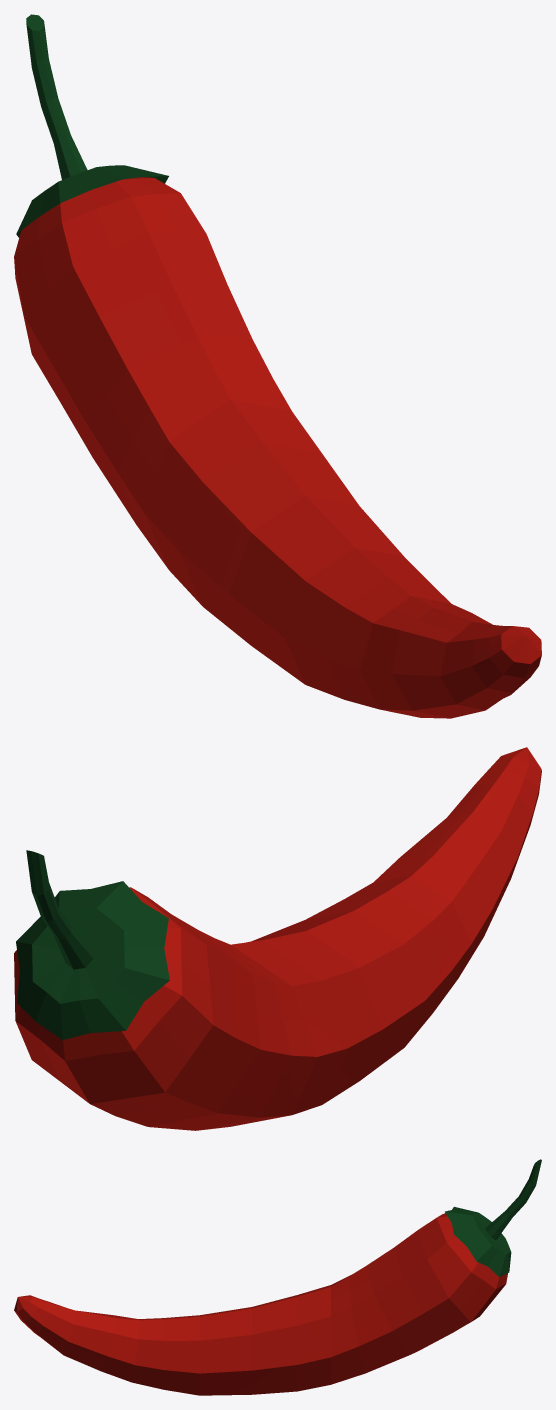
Rendered from pimenta1.glb.
3 views of the same model, one above another, from view 1: azimuth 30°, elevation 25°; view 2: azimuth 150°, elevation 25°; view 3: azimuth 270°, elevation 25° (orthographic). The views are drawn at different scales.
Visible parts, largest first — view 1: RedPepper; view 2: RedPepper; view 3: RedPepper.
Part boxes in pixels (x1,y1,x2,y2): RedPepper: (14,14,541,718); RedPepper: (14,747,541,1130); RedPepper: (14,1159,541,1395).
Size of the model in its own units: 2.57 by 5.77 by 11.78.
